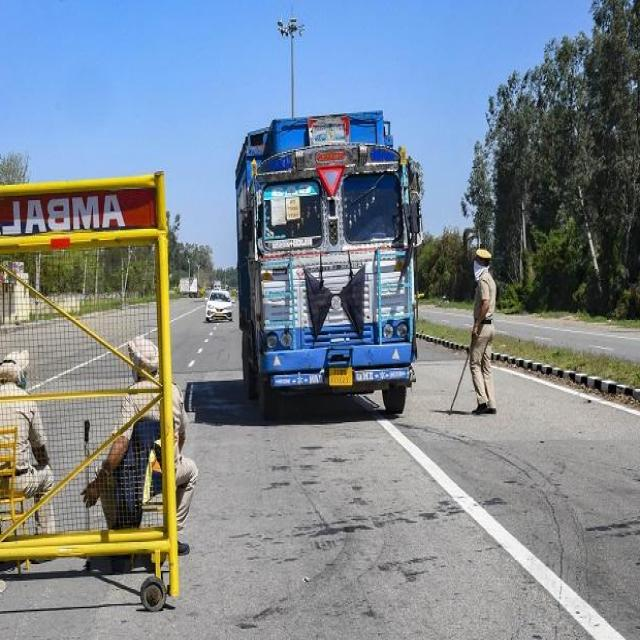car: (205, 289, 235, 321)
truck: (236, 112, 422, 417)
